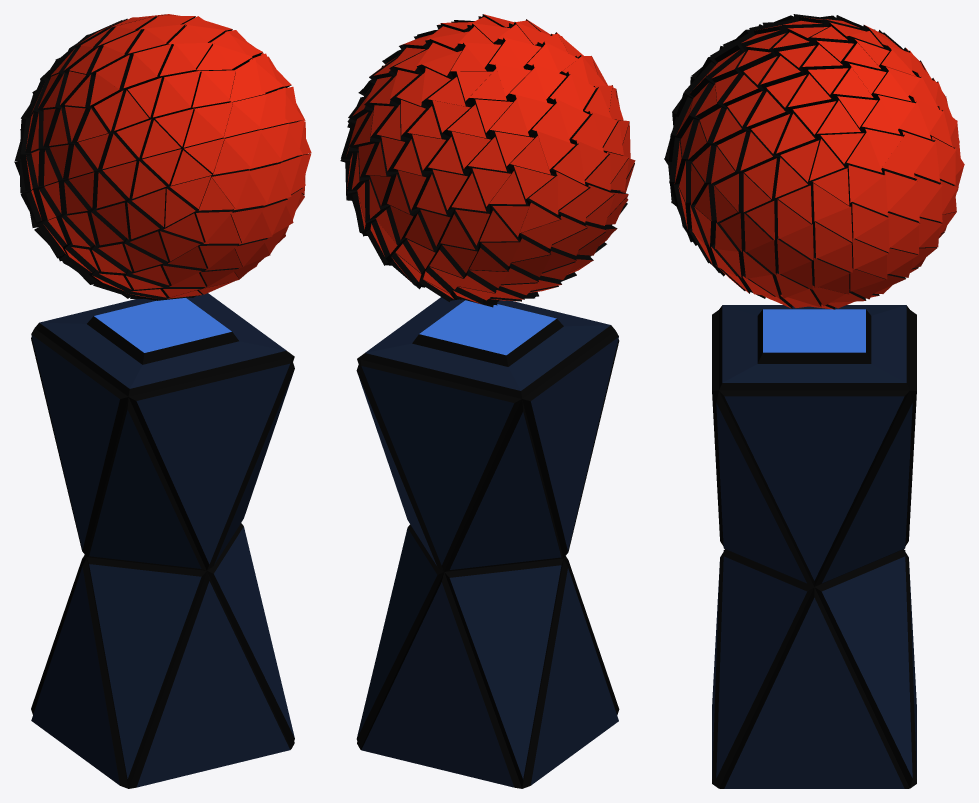
The model's file is parametric_sphere.FBX.
3 renders of one model, left to right at view 1: azimuth 30°, elevation 25°; view 2: azimuth 150°, elevation 25°; view 3: azimuth 270°, elevation 25°, orthographic. The views are drawn at different scales.
Visible parts, largest first — view 1: Pedestal, GeoSphere001; view 2: Pedestal, GeoSphere001; view 3: Pedestal, GeoSphere001.
Part boxes in pixels (x1,y1,x2,y2): Pedestal: (31, 293, 294, 788); GeoSphere001: (14, 14, 311, 300); Pedestal: (356, 297, 619, 788); GeoSphere001: (340, 14, 635, 307); Pedestal: (712, 305, 916, 788); GeoSphere001: (664, 14, 964, 309).
Size of the model in its own units: 79.06 by 208 by 78.72.
